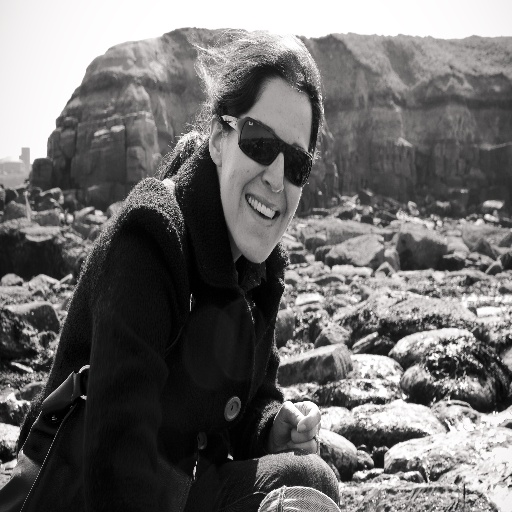hand: (268, 403, 326, 461)
